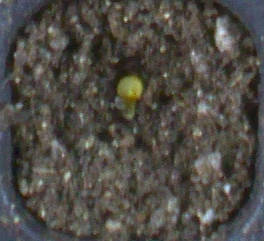pepper seed: (44, 25, 187, 125)
